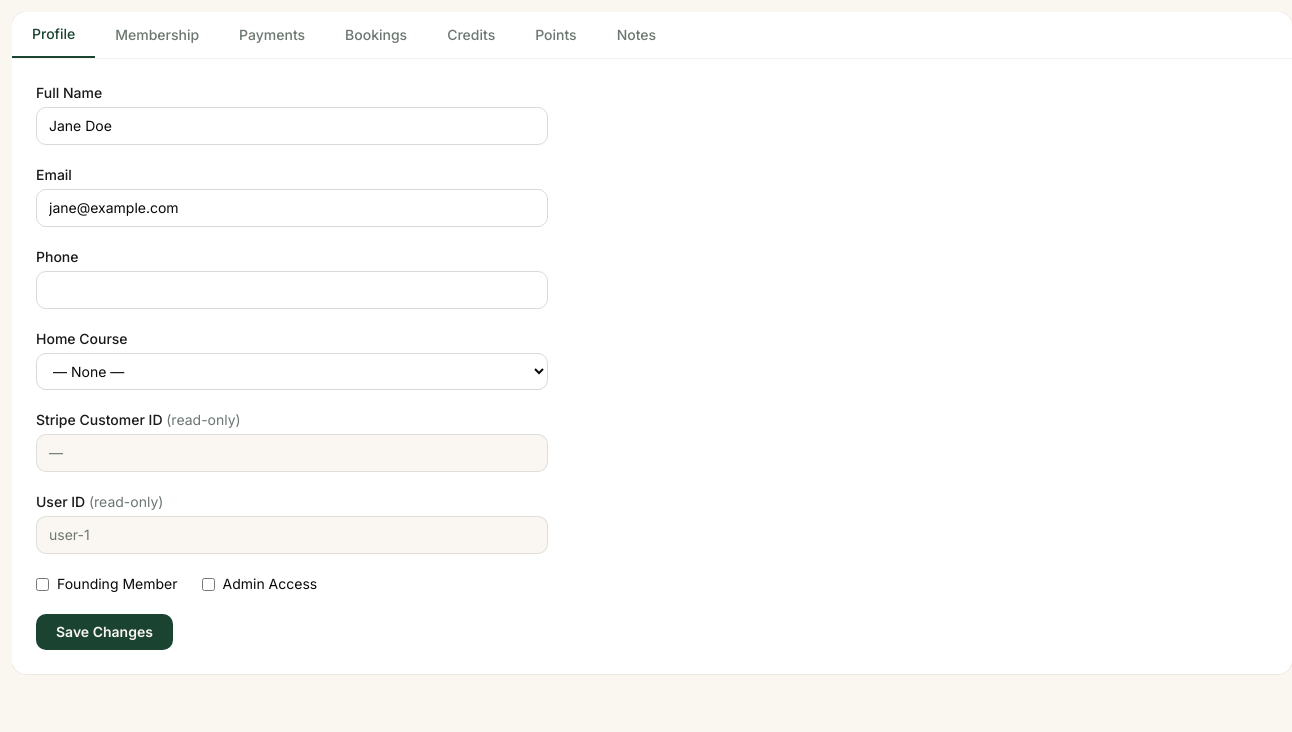
MemberDetailTabs › switches to Notes tab on click
Click the button "Notes" at (636, 35), box [597,12,676,58]
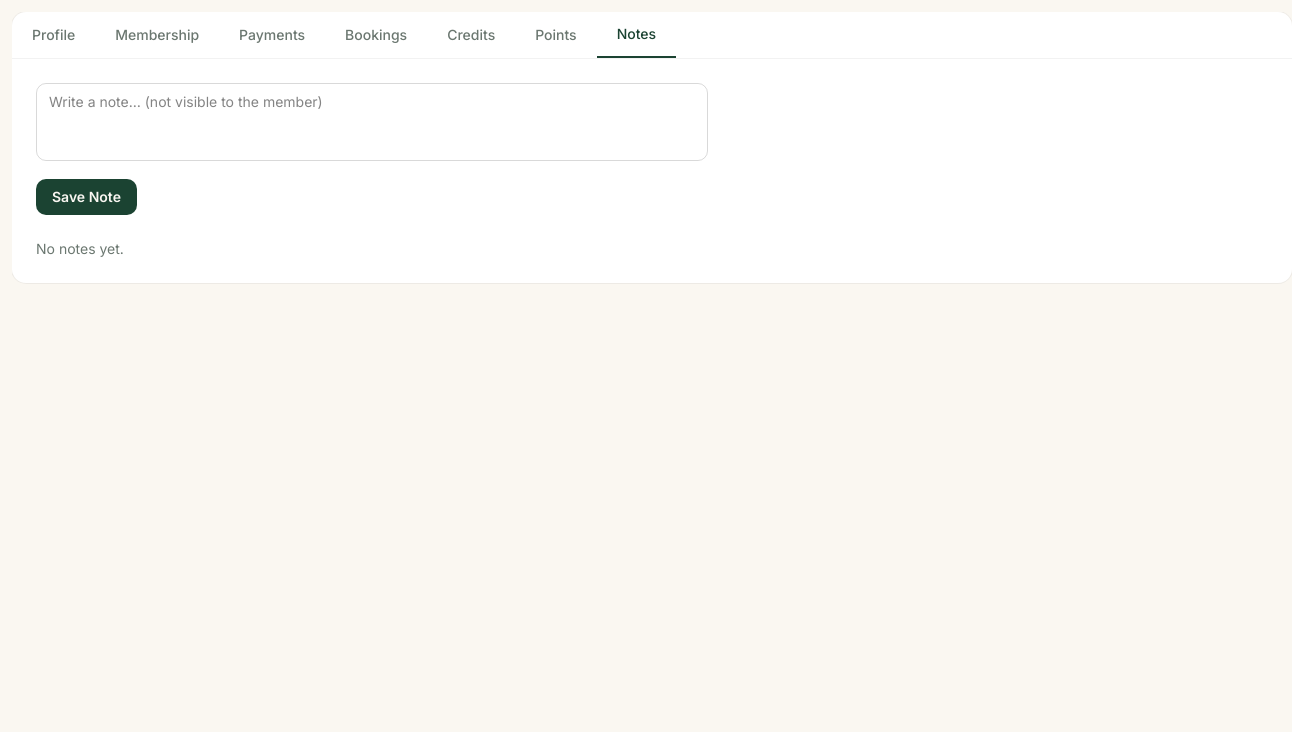
expect the text box with placeholder "Write a note… (not visible to the member)" is shown: met, box [36,83,708,161]
